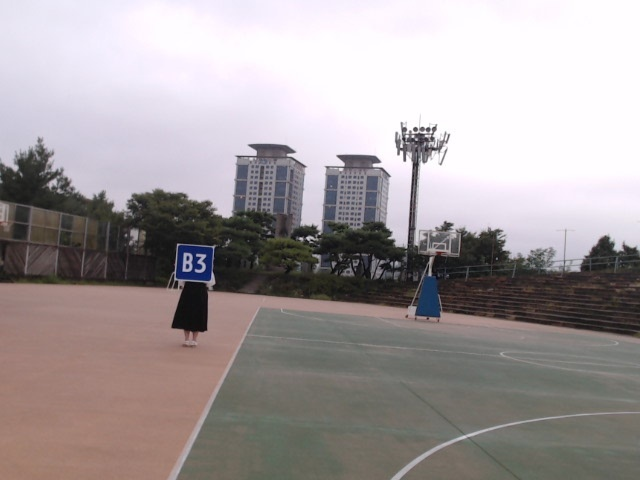delivery_b3: (176, 244, 215, 283)
